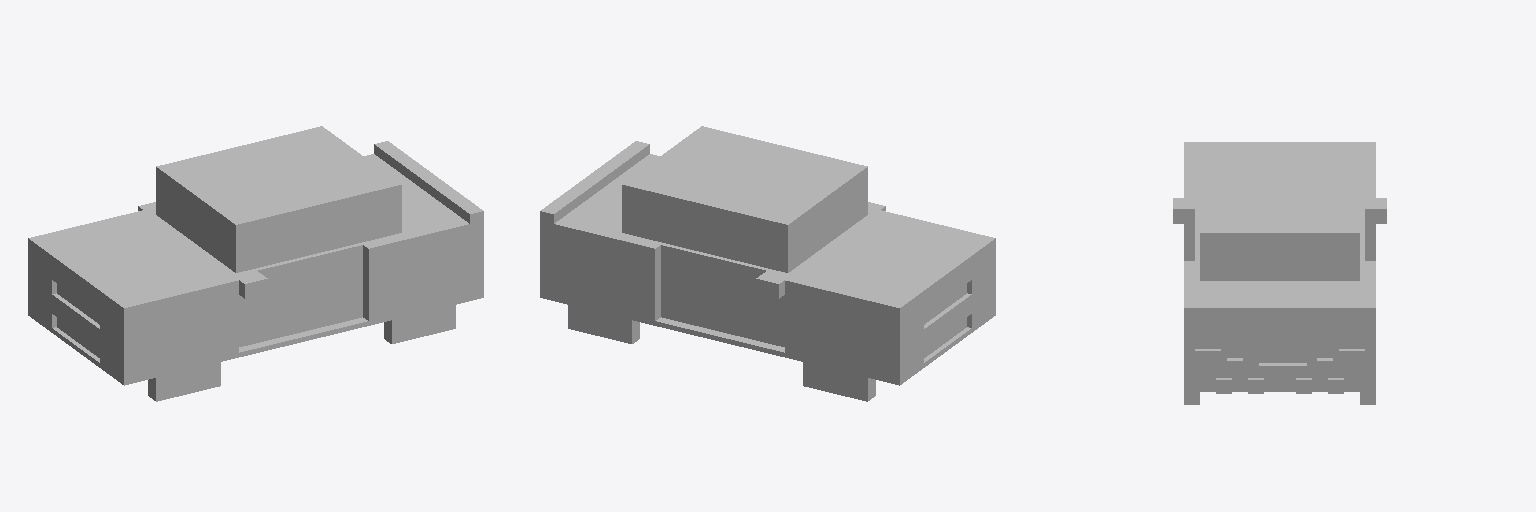
Rendered from alll cars3-0.obj.
3 renders of one model, left to right at view 1: azimuth 30°, elevation 25°; view 2: azimuth 150°, elevation 25°; view 3: azimuth 270°, elevation 25°, orthographic.
Visible parts, largest first — view 1: object 1; view 2: object 1; view 3: object 1.
Part boxes in pixels (left/top/right/bottom): object 1: left=28, top=126, right=483, bottom=401; object 1: left=540, top=126, right=995, bottom=401; object 1: left=1173, top=142, right=1386, bottom=404.
Bounding box in the file's own units: 7.8 × 3.1 × 4.